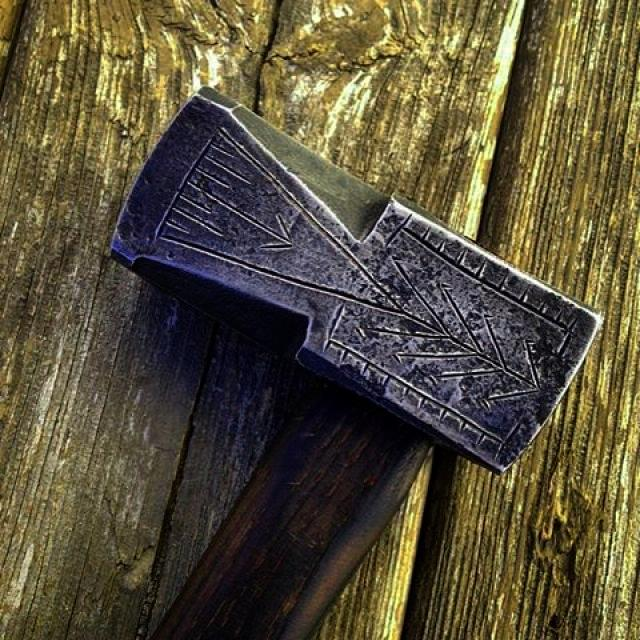hammer: (98, 77, 609, 640)
